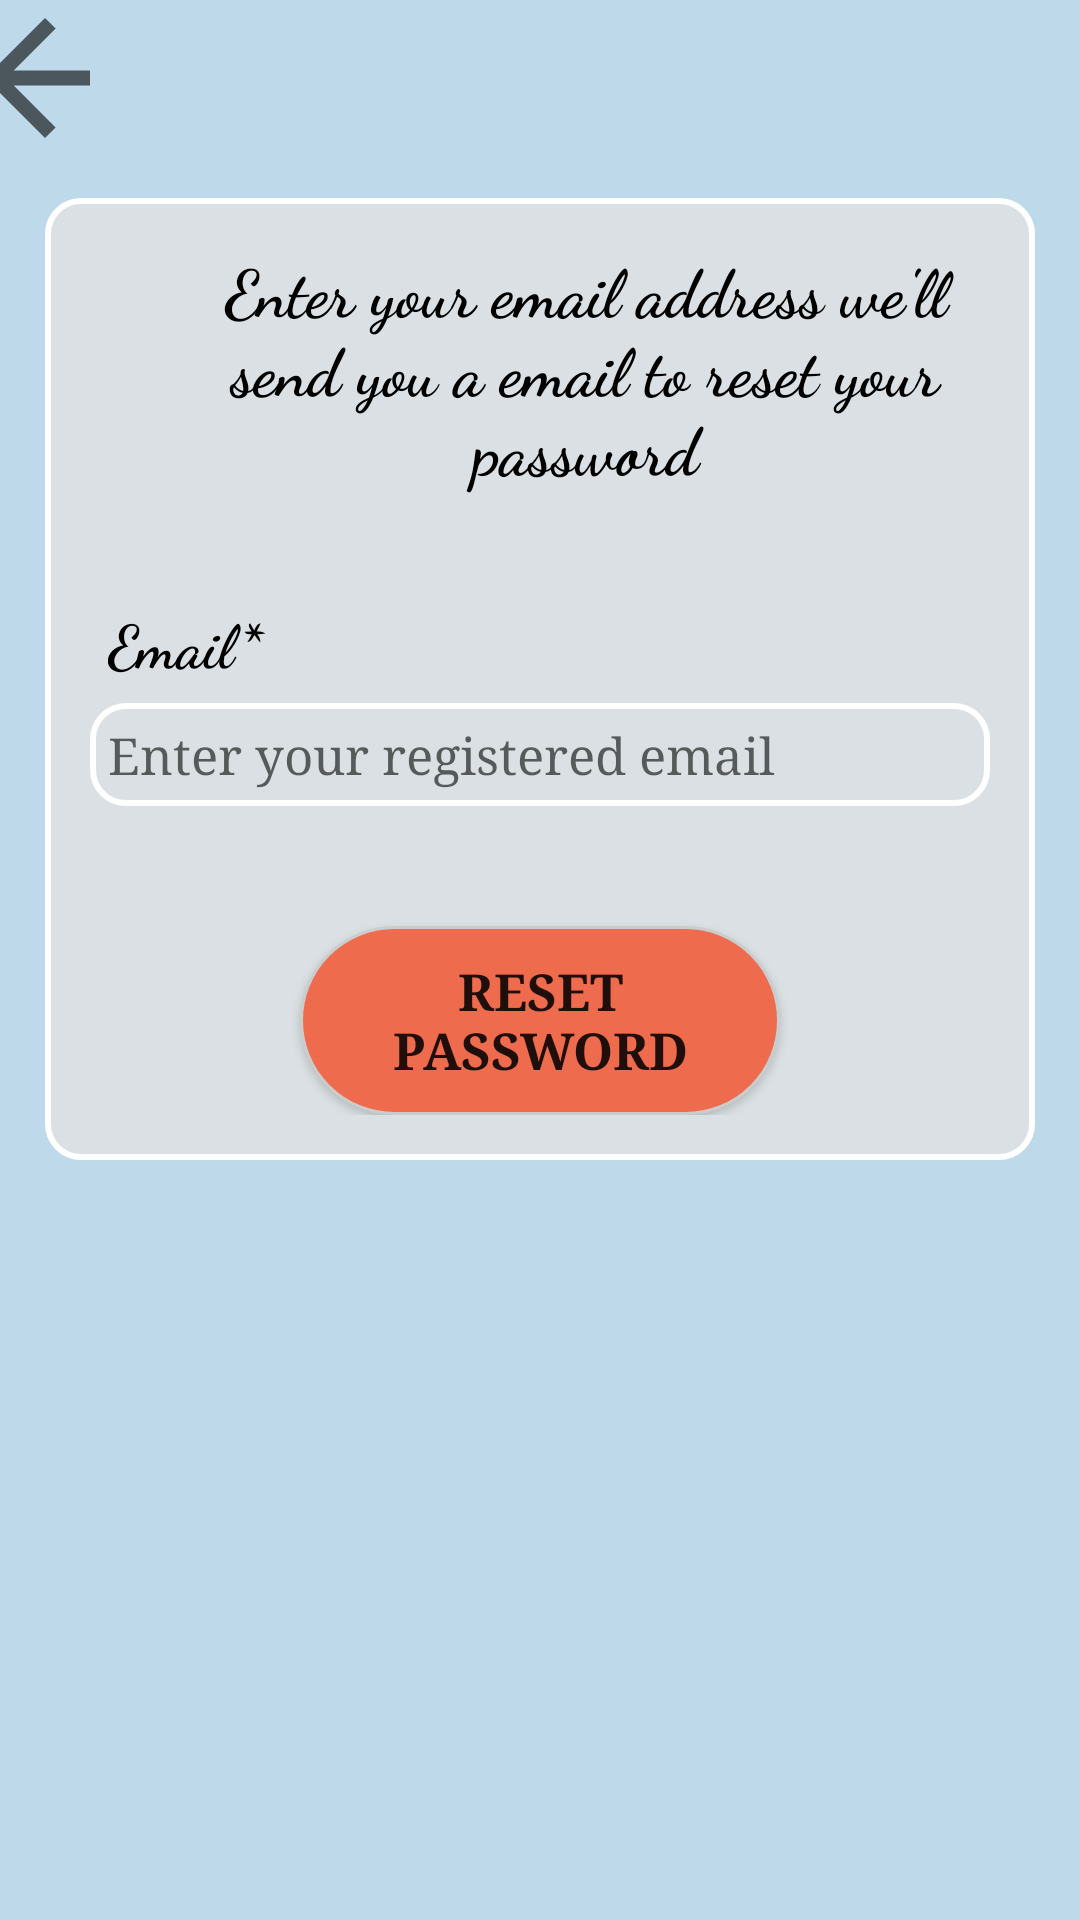

Point at icon controls on the screen. Image size 1080px×1920px, points as (x=x, y=y).
arrow back: (x=45, y=78)
